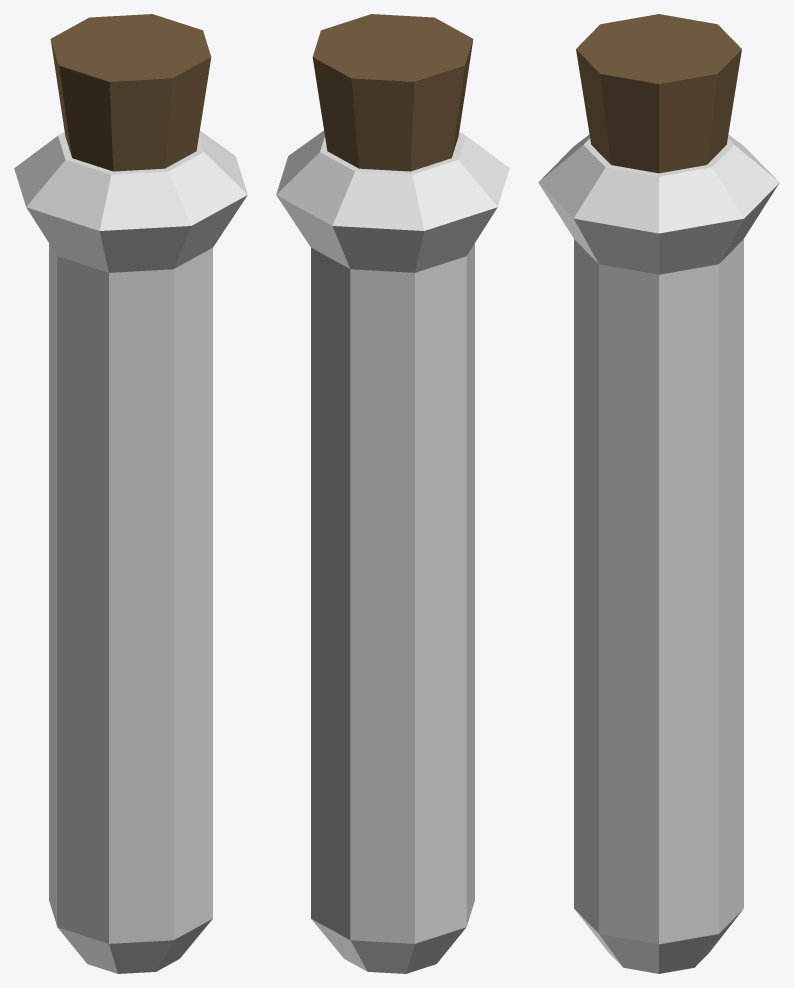
3 views of the same model, side by side, from view 1: azimuth 30°, elevation 25°; view 2: azimuth 150°, elevation 25°; view 3: azimuth 270°, elevation 25° (orthographic).
Parts seen in each view (by area): view 1: Cylinder; view 2: Cylinder; view 3: Cylinder.
Part boxes in pixels (x1,y1,x2,y2): Cylinder: [14, 14, 247, 973]; Cylinder: [276, 14, 509, 973]; Cylinder: [538, 14, 779, 973].
Size of the model in its own units: 1.13 by 4.67 by 1.13.
